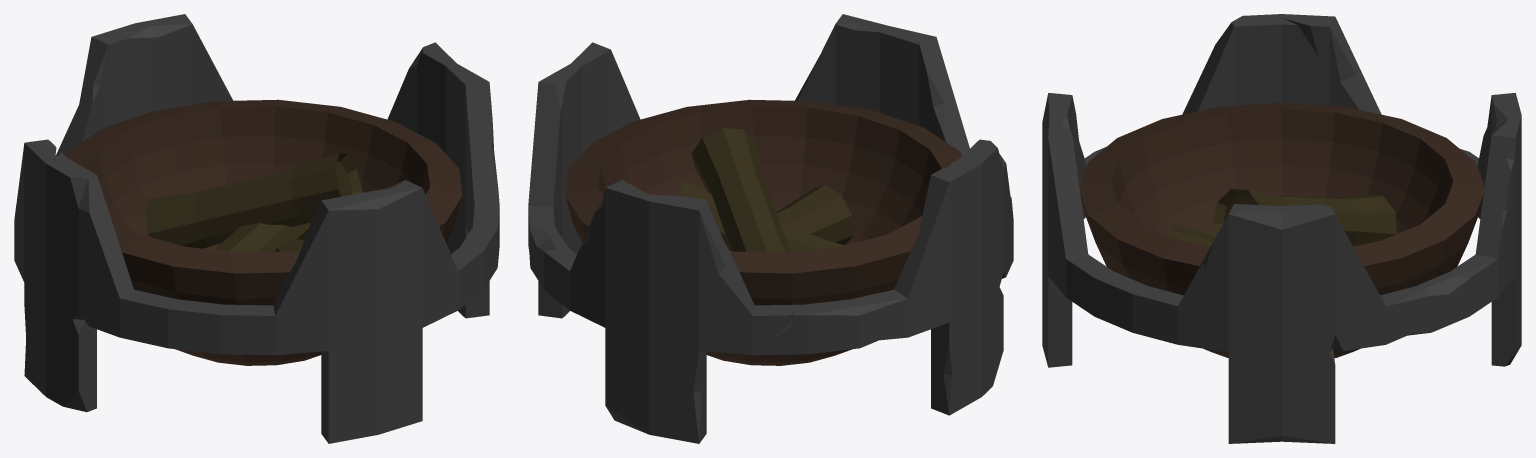
File: Brasero_1.fbx
3 renders of one model, left to right at view 1: azimuth 30°, elevation 25°; view 2: azimuth 150°, elevation 25°; view 3: azimuth 270°, elevation 25°, orthographic.
Visible parts, largest first — view 1: BraseroLeña; view 2: BraseroLeña; view 3: BraseroLeña.
Boxes of the visible parts, <box> form: BraseroLeña: <box>14,14,499,443</box>; BraseroLeña: <box>528,14,1013,443</box>; BraseroLeña: <box>1042,14,1521,443</box>.
Bounding box in the file's own units: 233 × 124 × 233.
